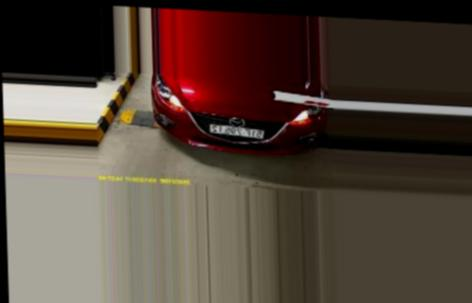License_Plate: (208, 125, 264, 140)
